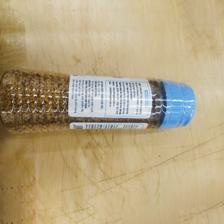TayNinh_blue: (1, 69, 197, 132)
